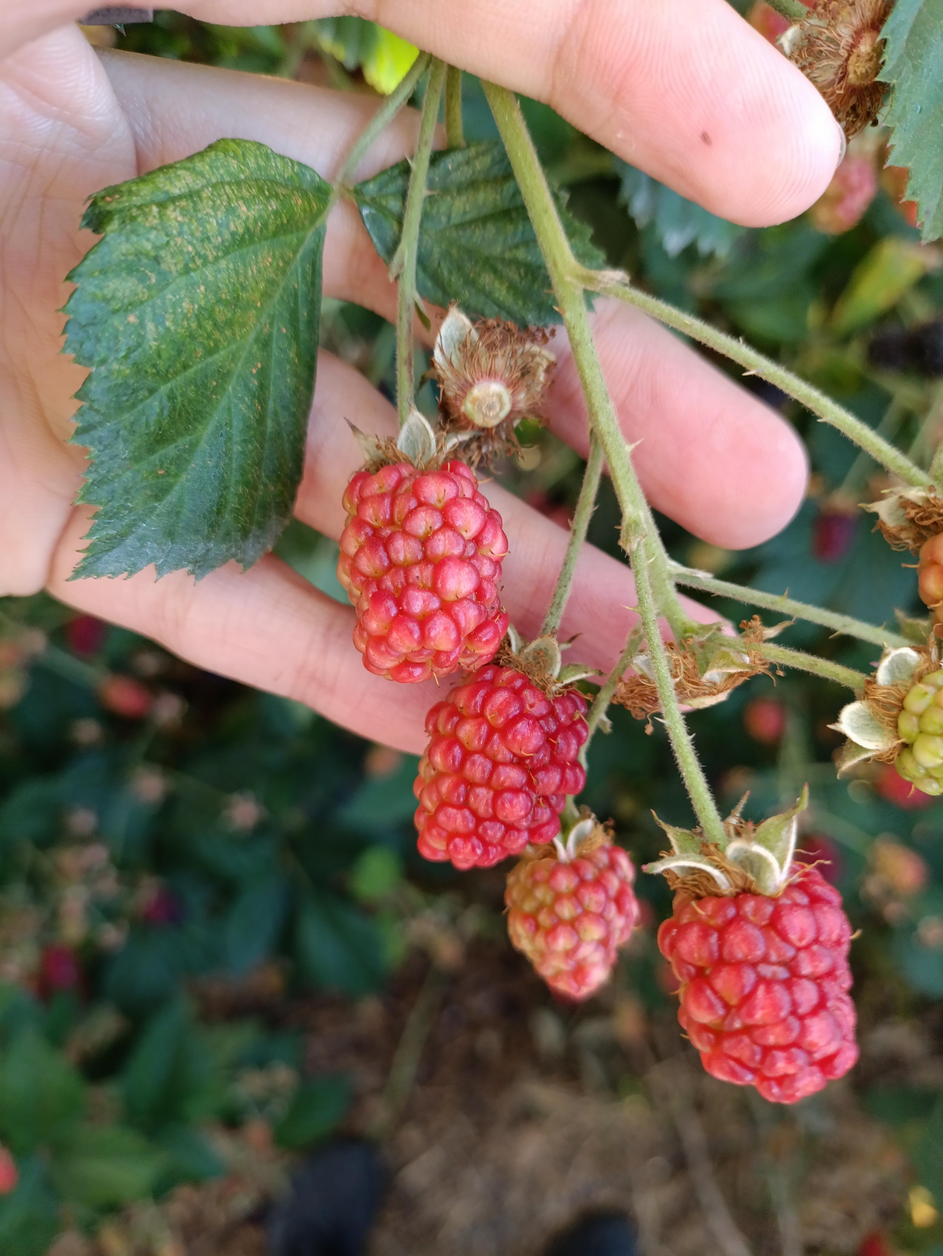naranja: (658, 865, 857, 1103), (338, 460, 507, 683), (414, 666, 588, 869), (505, 825, 639, 1000)
